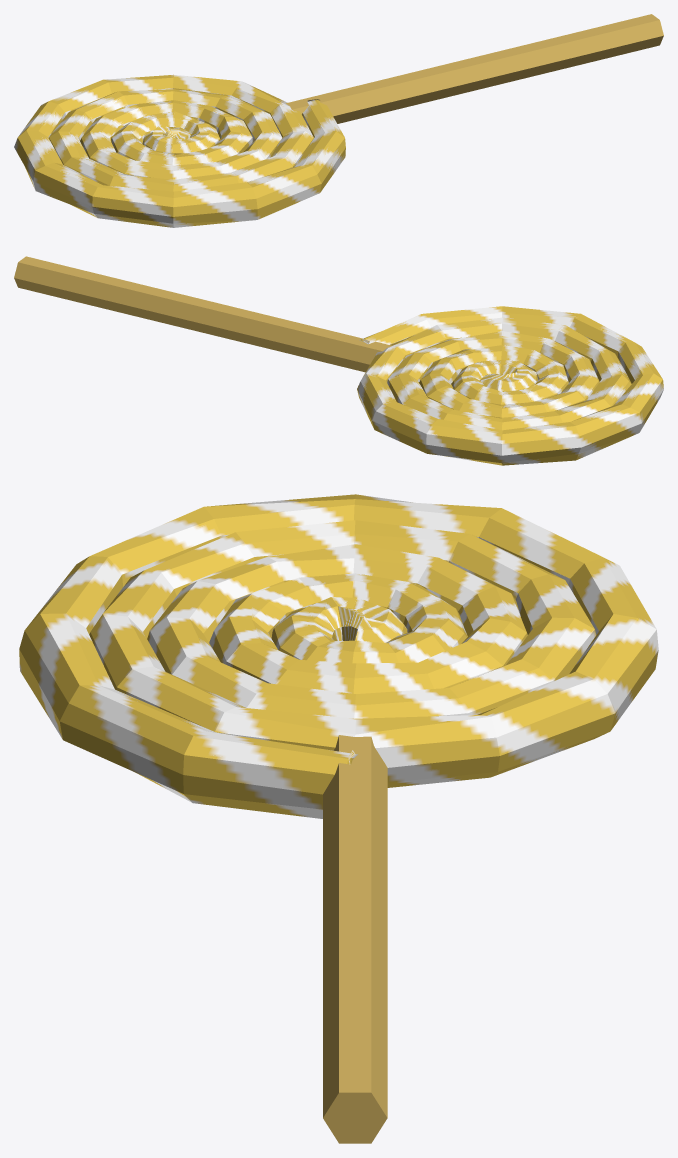
Rendered from LizakŻółty.fbx.
3 renders of one model, top to bottom at view 1: azimuth 30°, elevation 25°; view 2: azimuth 150°, elevation 25°; view 3: azimuth 270°, elevation 25°, orthographic. The views are drawn at different scales.
Visible parts, largest first — view 1: LizakŻółty; view 2: LizakŻółty; view 3: LizakŻółty.
Part boxes in pixels (box(x1,y1,x2,y2)): LizakŻółty: box(14, 14, 663, 227); LizakŻółty: box(14, 256, 663, 465); LizakŻółty: box(19, 494, 658, 1143).
Size of the model in its own units: 502 by 27.96 by 224.
2 materials, 1 textured.
